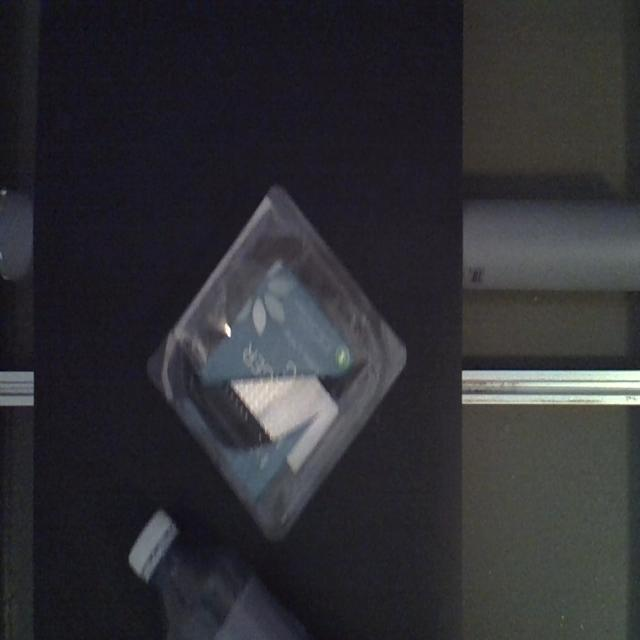bottle-plastic: (127, 514, 331, 640)
mixed-plastics: (145, 178, 411, 546)
